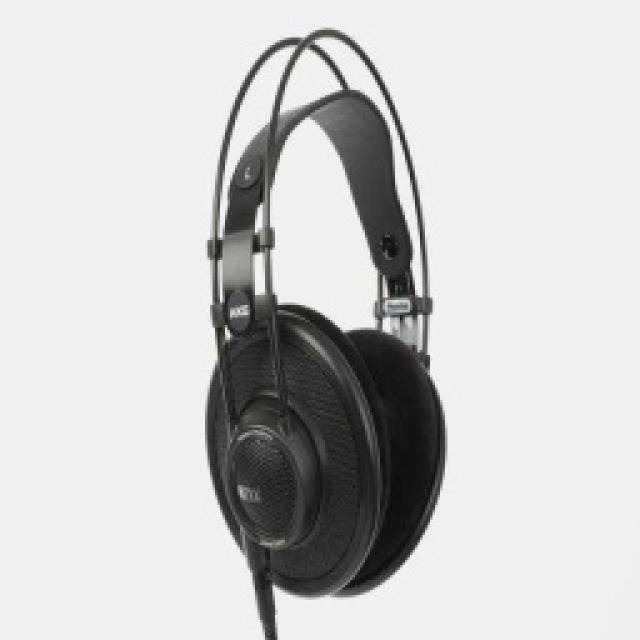headphones: (202, 25, 448, 597)
